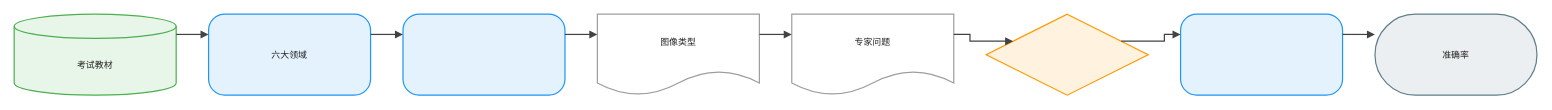
The diagram is 1552 pixels wide and 110 high, and some of its shapes have lost their labels. The shapes that lost their labels are listed below. From the top down, each one's centre as x and y in pixels, then its label:
At (x=483, y=54): "30个科目".
At (x=1066, y=54): "规则评测".
At (x=1261, y=54): "LMM测试".
